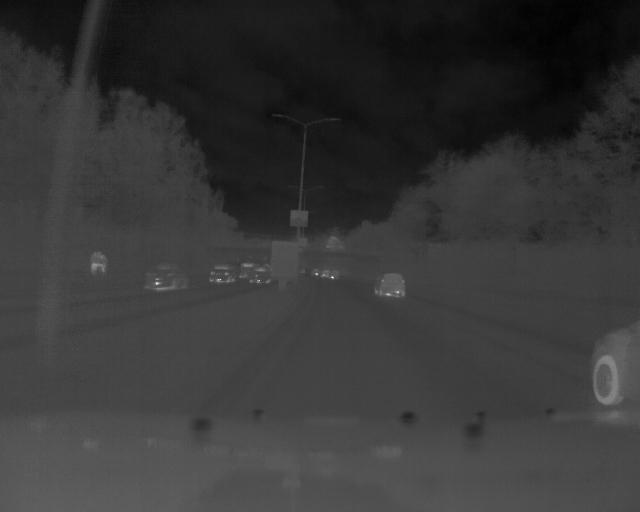car: (587, 310, 640, 408), (143, 256, 191, 293), (371, 270, 412, 300), (208, 261, 239, 285), (245, 262, 274, 286)
